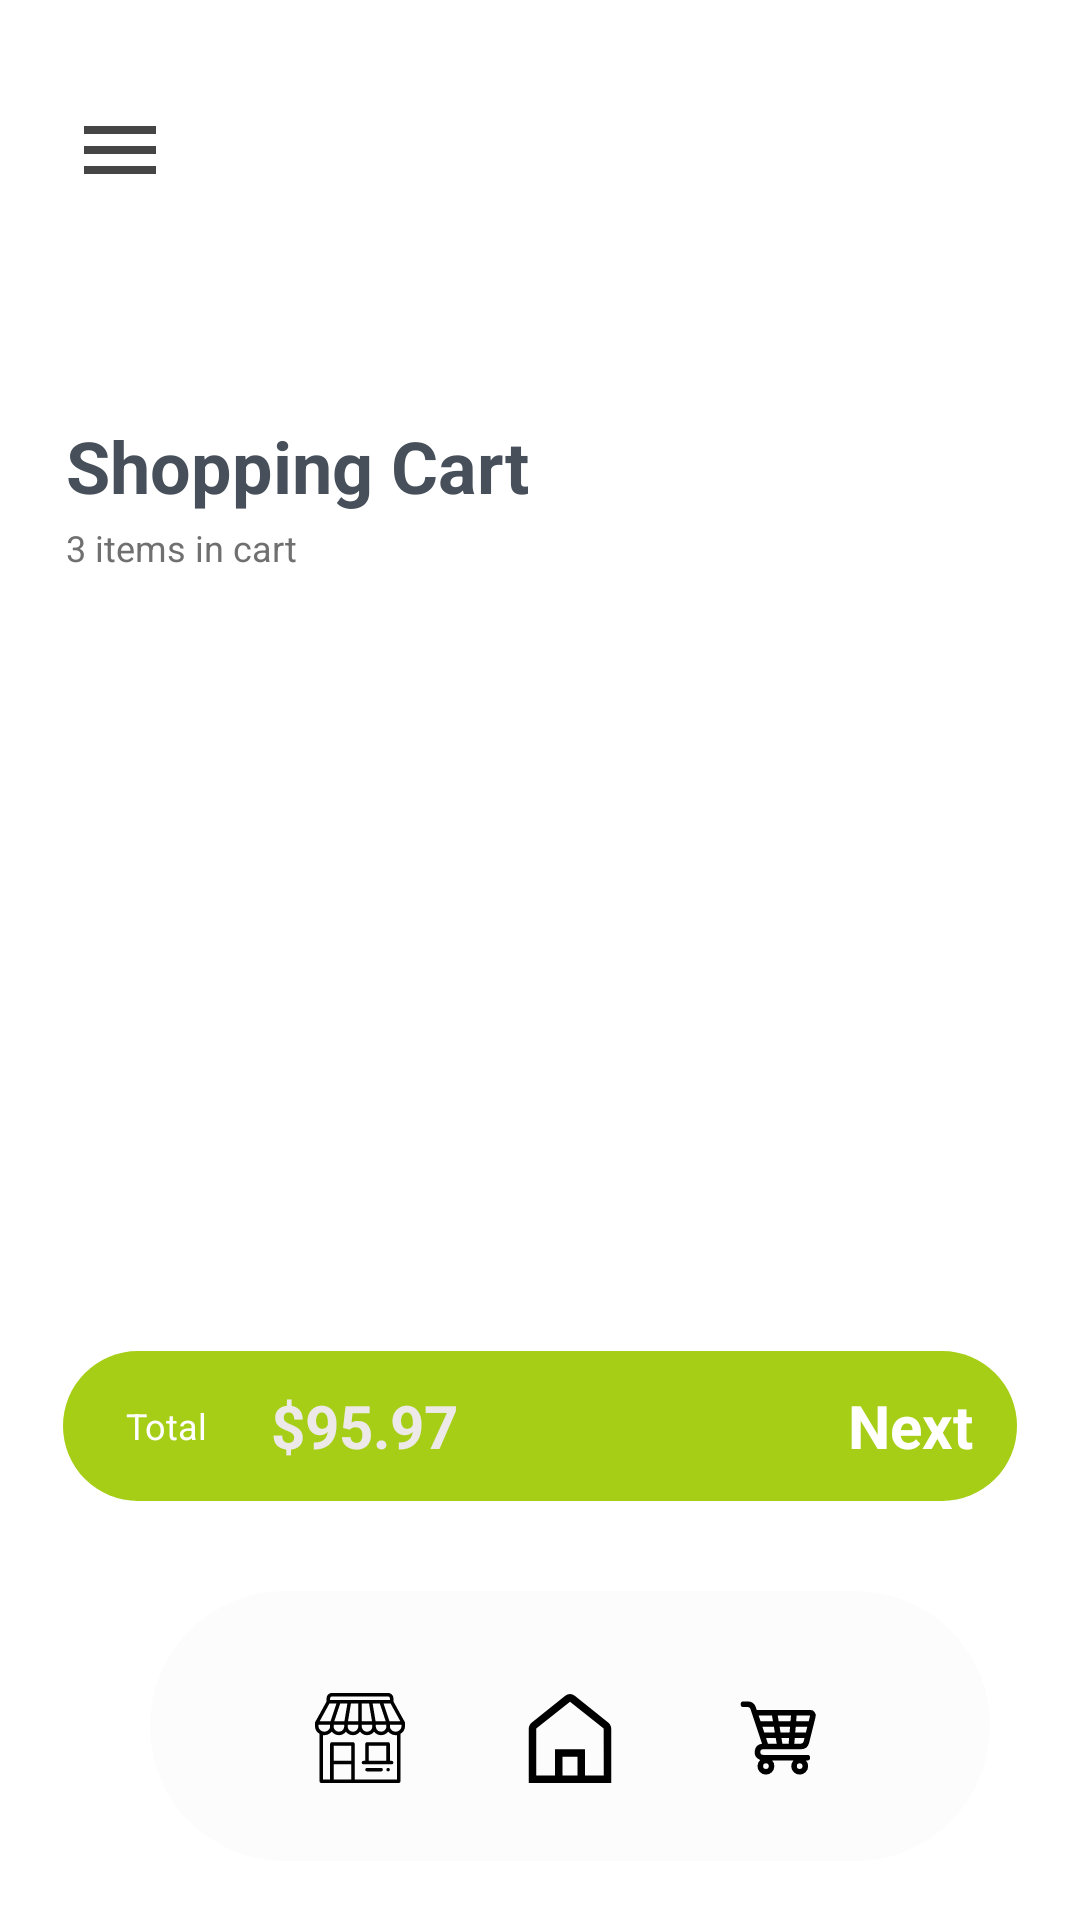

Named icons in this screenshot (1080 x 1920) and their centers, [x,y]:
cart: [778,1738]
draw: [120,150]
home: [570,1738]
shop: [360,1738]
